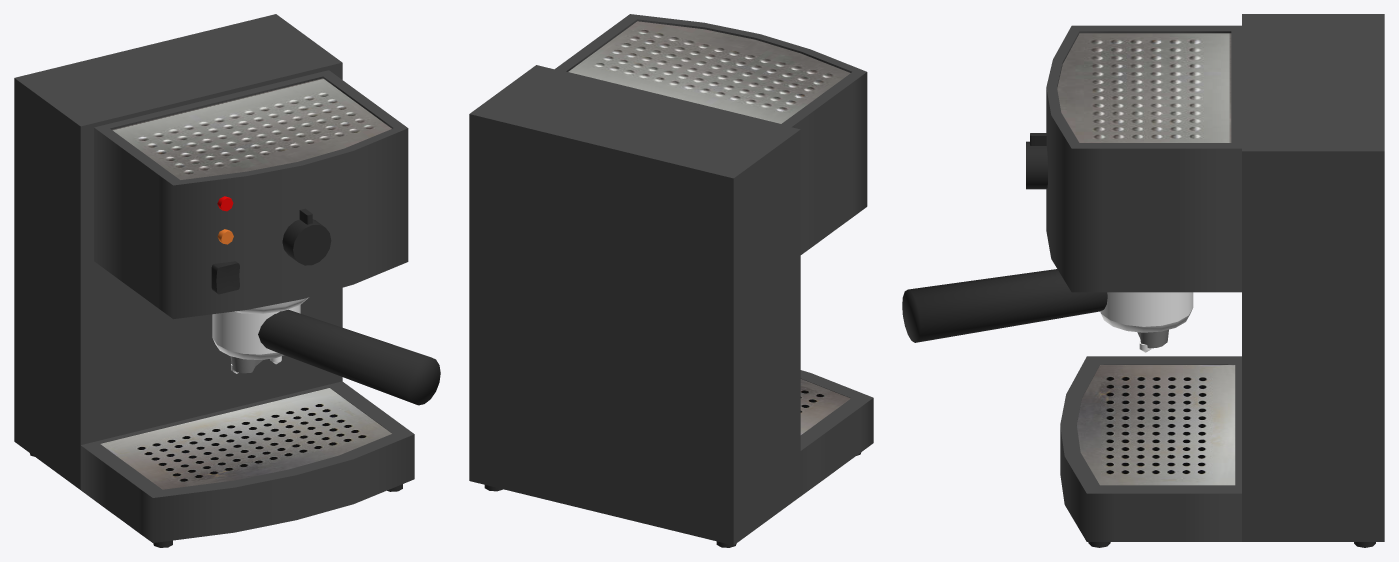
File: coffee_machine.glb
3 views of the same model, side by side, from view 1: azimuth 30°, elevation 25°; view 2: azimuth 150°, elevation 25°; view 3: azimuth 270°, elevation 25° (orthographic). The views are drawn at different scales.
Parts seen in each view (by area): view 1: Cube_1, Boolean_1, Boolean_1_1, grille, plaque, manche, Cylinder_11, object 2, on/off; view 2: Cube_1, plaque, Boolean_1, Boolean_1_1, grille; view 3: Cube_1, Boolean_1, plaque, grille, Boolean_1_1, manche, Cylinder_11, object 2.
Part boxes in pixels (x1,y1,x2,y2): Cube_1: (14, 14, 342, 489); Boolean_1: (94, 70, 408, 319); Boolean_1_1: (80, 381, 414, 542); grille: (100, 388, 391, 489); plaque: (112, 78, 391, 179); manche: (258, 309, 440, 405); Cylinder_11: (212, 305, 300, 359); object 2: (282, 208, 331, 265); on/off: (211, 261, 239, 294); Cube_1: (469, 65, 800, 545); plaque: (568, 21, 850, 123); Boolean_1: (555, 14, 867, 254); Boolean_1_1: (800, 370, 873, 495); grille: (800, 379, 850, 434); Cube_1: (1242, 14, 1384, 541); Boolean_1: (1046, 25, 1241, 292); plaque: (1057, 33, 1231, 142); grille: (1077, 365, 1235, 485); Boolean_1_1: (1060, 356, 1241, 541); manche: (902, 269, 1107, 342); Cylinder_11: (1100, 292, 1193, 332); object 2: (1026, 133, 1047, 189).
Size of the model in its own units: 20.51 by 27.87 by 30.45.
Materials: 8 (2 with a texture image).
